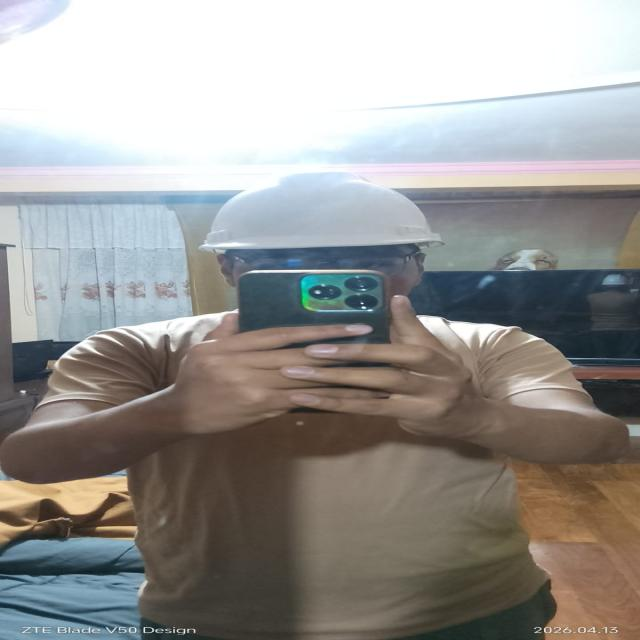casco: (175, 164, 467, 264)
